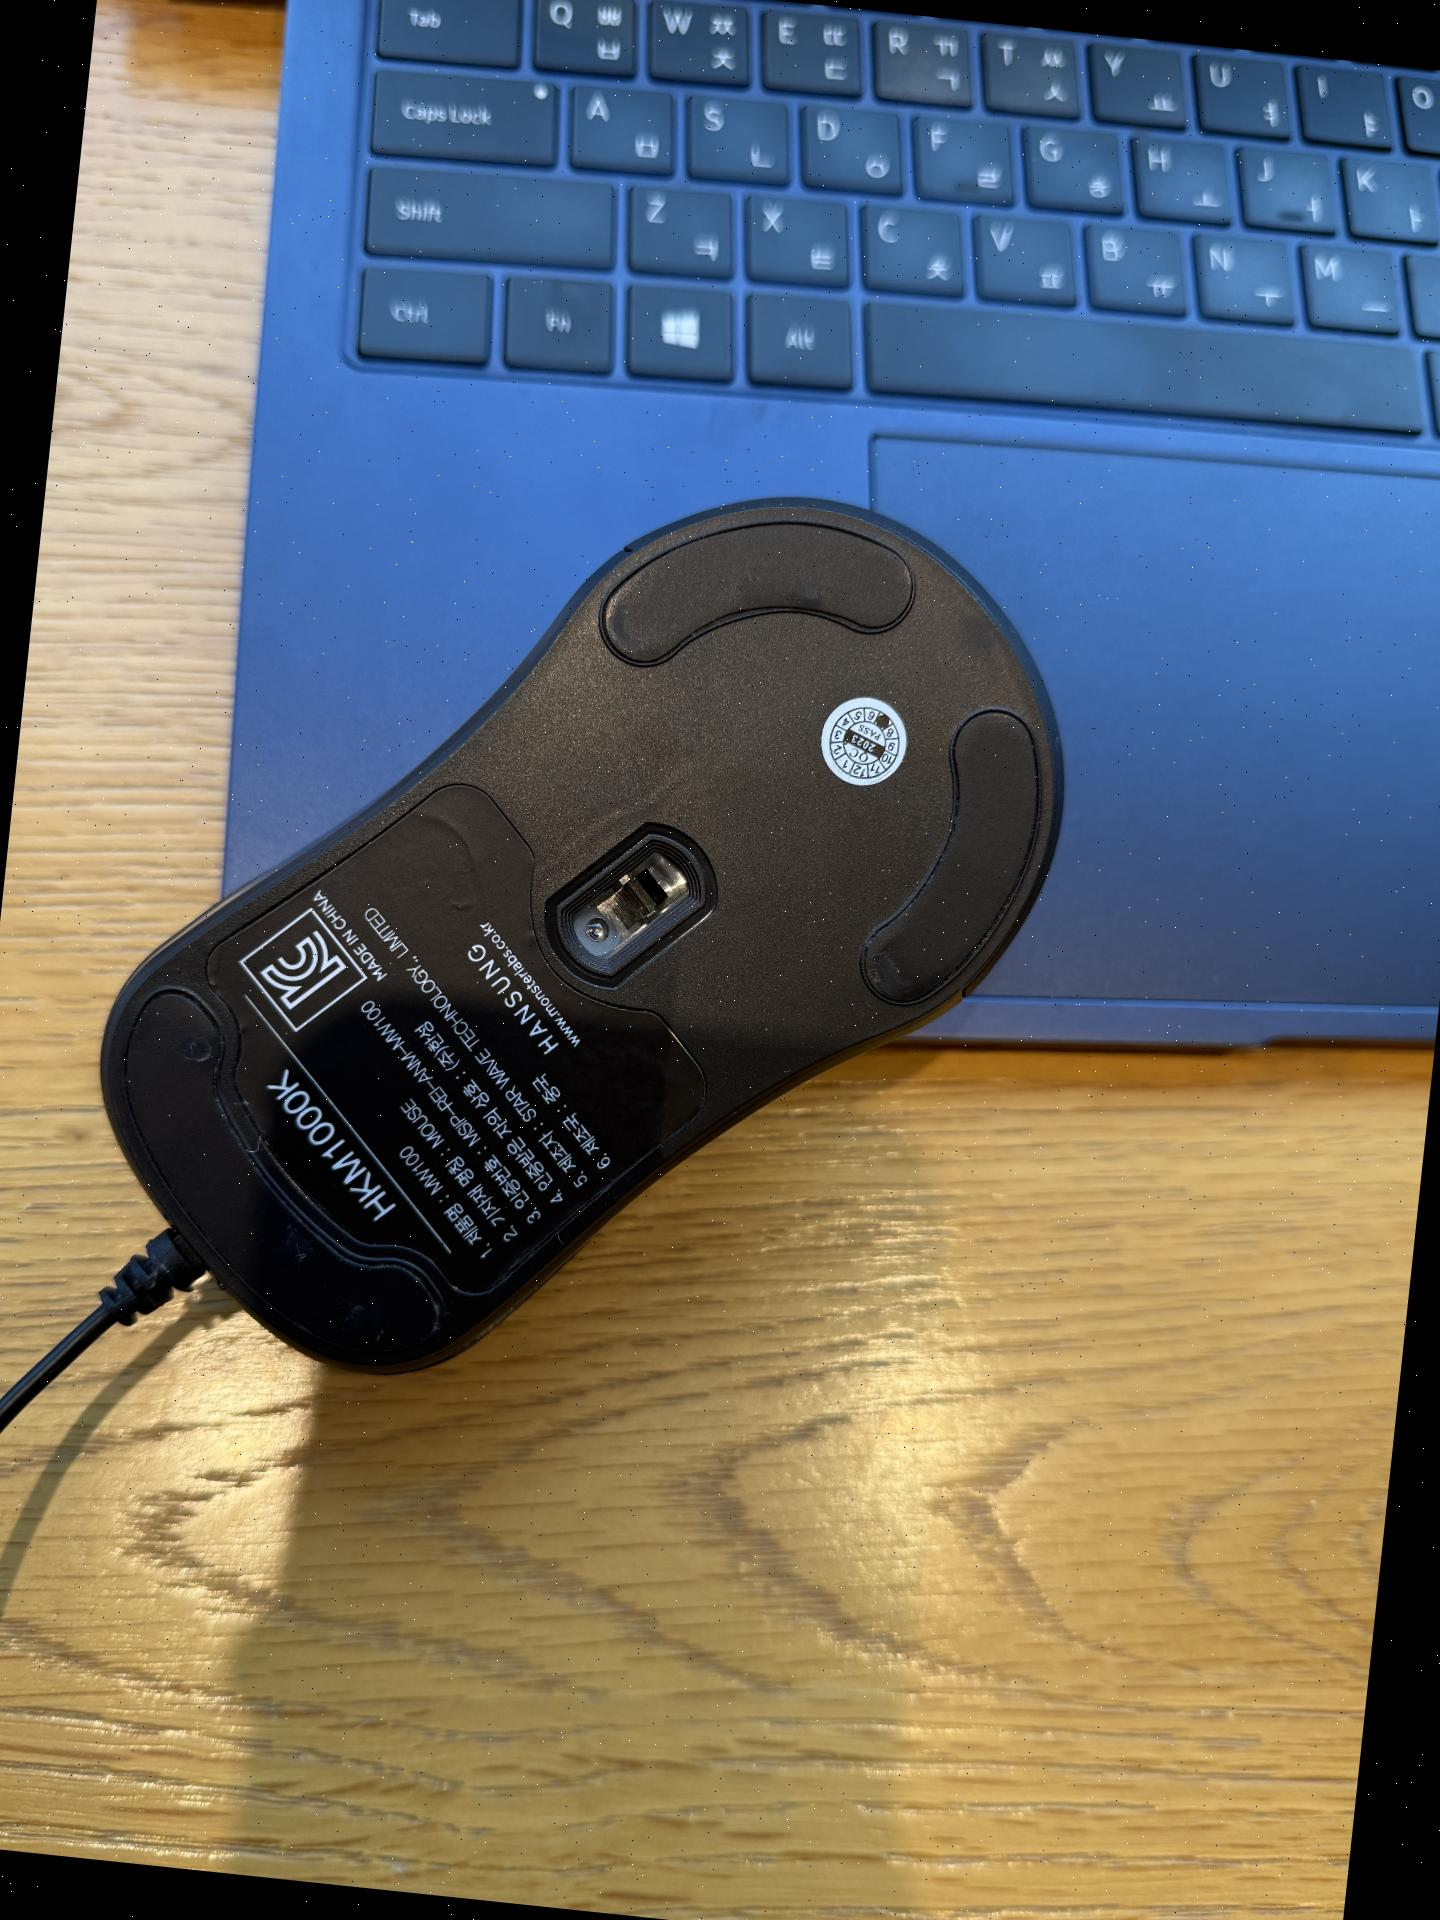back: (62, 420, 1101, 1445)
